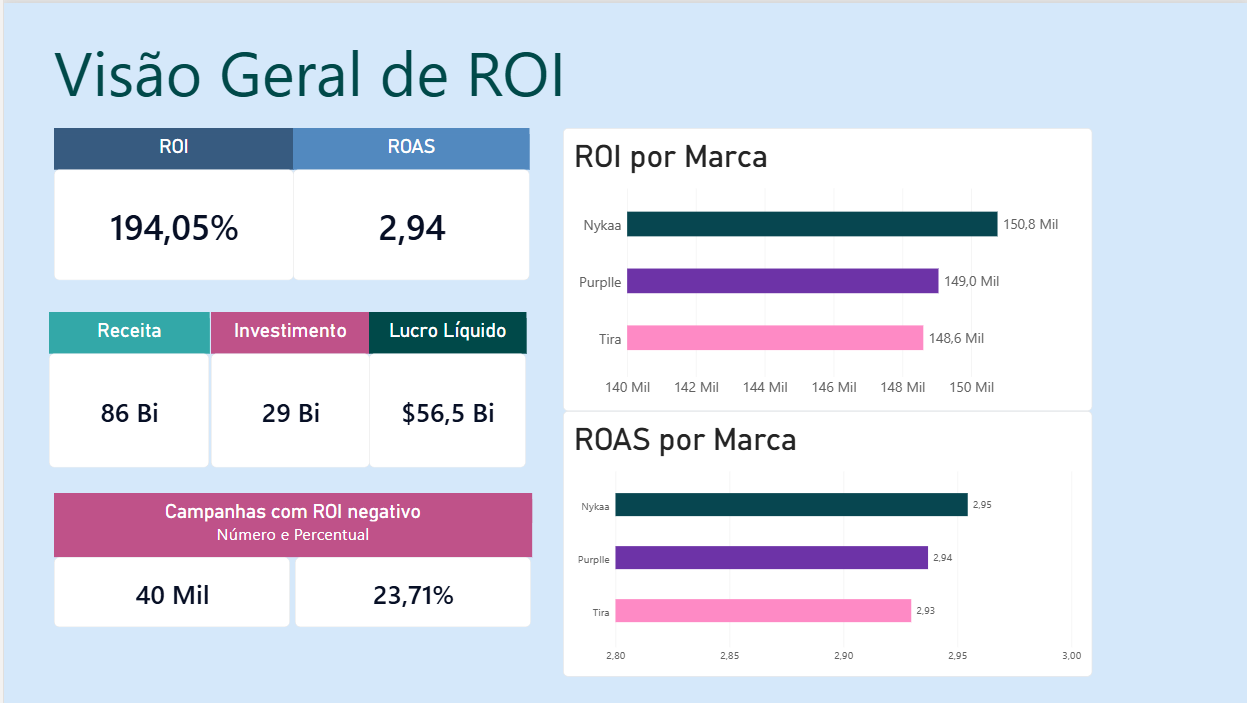

The page's visual inventory and layout, read from the dashboard file:
{"tool":"powerbi","page":{"name":"Geral ROI","canvas":[1920,1080],"ordinal":0},"visuals":[{"type":"cardVisual","title":"Receita","fields":{"Data":["_Medidas.Receita"]},"box":[70,476.7,247.5,240],"z":0},{"type":"cardVisual","title":"Investimento","fields":{"Data":["_Medidas.Spend"]},"box":[320,476.7,245,240],"z":1000},{"type":"cardVisual","title":"Lucro Líquido","fields":{"Data":["_Medidas.Lucro Líquido"]},"box":[563.3,476.7,242.5,240],"z":2000},{"type":"cardVisual","title":"ROI","fields":{"Data":["_Medidas.ROI"]},"box":[76.7,193.3,370,235],"z":3000},{"type":"cardVisual","title":"ROAS","fields":{"Data":["_Medidas.ROAS"]},"box":[446.7,193.3,365,235],"z":4000},{"type":"barChart","title":"ROI por Marca","fields":{"Category":["campaign_analytics.Campaign_Enterprise"],"Y":["Sum(campaign_analytics.ROI)"]},"box":[863.3,193.3,816.7,436.7],"z":5000},{"type":"cardVisual","title":"Campanhas com ROI negativo","fields":{"Data":["_Medidas.Campanhas com ROI Negativo","_Medidas.% Campanhas ROI Negativo"]},"box":[76.7,756.7,737.5,207.5],"z":6000},{"type":"textbox","box":[77,0,370,235],"z":7000},{"type":"textbox","box":[77.5,40,910,152.5],"z":8000},{"type":"barChart","title":"ROAS por Marca","fields":{"Category":["campaign_analytics.Campaign_Enterprise"],"Y":["_Medidas.ROAS"]},"box":[863.3,630,816.7,410],"z":9000}]}

Visuals, with their boxes in screenshot pixels (x1, y1, x2, y2), scaled from the page's 1920x1080 canvas onto the 1247x703 screenshot:
"Receita" cardVisual: (left=45, top=310, right=206, bottom=467)
"Investimento" cardVisual: (left=208, top=310, right=367, bottom=467)
"Lucro Líquido" cardVisual: (left=366, top=310, right=523, bottom=467)
"ROI" cardVisual: (left=50, top=126, right=290, bottom=279)
"ROAS" cardVisual: (left=290, top=126, right=527, bottom=279)
"ROI por Marca" barChart: (left=561, top=126, right=1091, bottom=410)
"Campanhas com ROI negativo" cardVisual: (left=50, top=493, right=529, bottom=628)
textbox: (left=50, top=0, right=290, bottom=153)
textbox: (left=50, top=26, right=641, bottom=125)
"ROAS por Marca" barChart: (left=561, top=410, right=1091, bottom=677)
